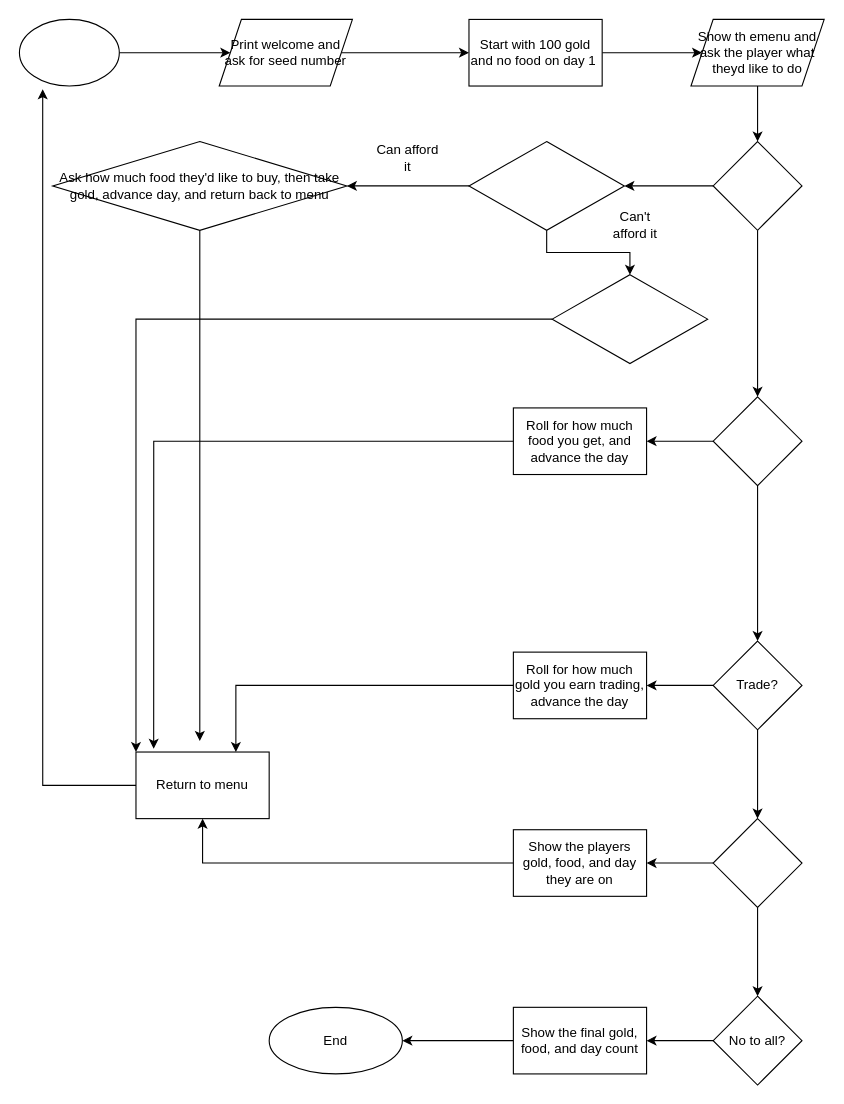
Image size: 844x1104. Some labels were removed from this diagram. The shapes that lost their labels are listed below. From the top down, each one's centre as x and y in pixels, then its label:
At [68,52]: "Start".
At [546,185]: "Check to see if user can afford food".
At [757,185]: "Buy Food?".
At [629,319]: "Tell them they can't afford any food".
At [757,441]: "Hunt?".
At [757,862]: "View Status?".
